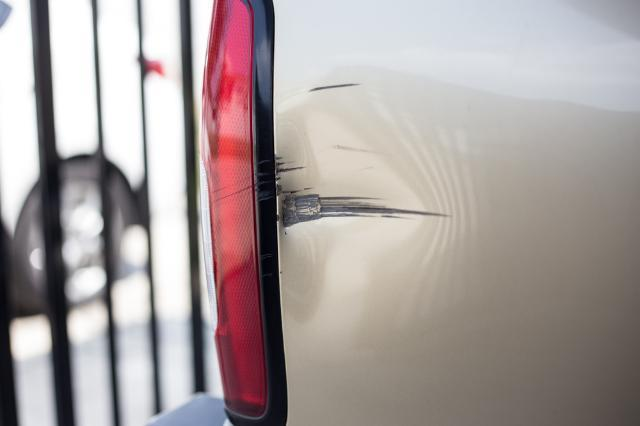dent: (274, 104, 424, 325)
